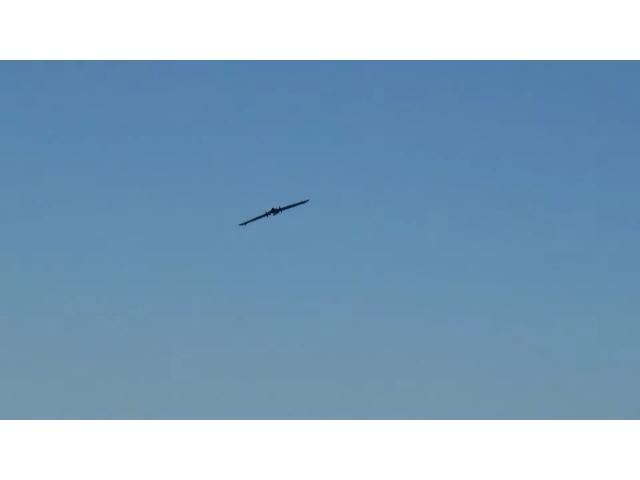Anti-Drone: (223, 180, 324, 238)
